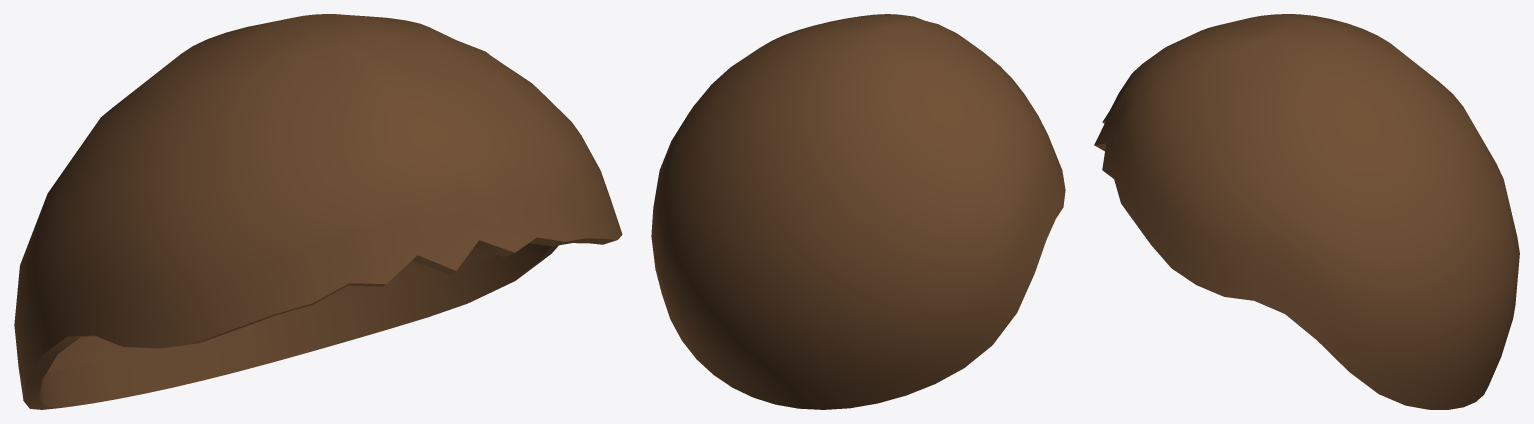
Rendered from Char_Hair_Short.fbx.
3 renders of one model, left to right at view 1: azimuth 30°, elevation 25°; view 2: azimuth 150°, elevation 25°; view 3: azimuth 270°, elevation 25°, orthographic. The views are drawn at different scales.
Parts seen in each view (by area): view 1: Hair; view 2: Hair; view 3: Hair.
Part boxes in pixels (bbox=[...]): Hair: bbox=[14, 14, 622, 409]; Hair: bbox=[651, 14, 1065, 409]; Hair: bbox=[1094, 14, 1519, 409].
Size of the model in its own units: 132 by 105 by 120.
